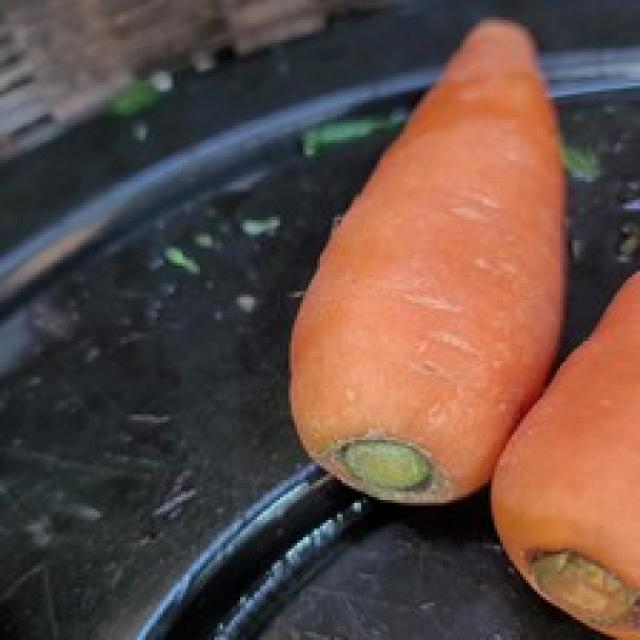Fresh_Carrot: (297, 24, 559, 487), (494, 275, 640, 587)
